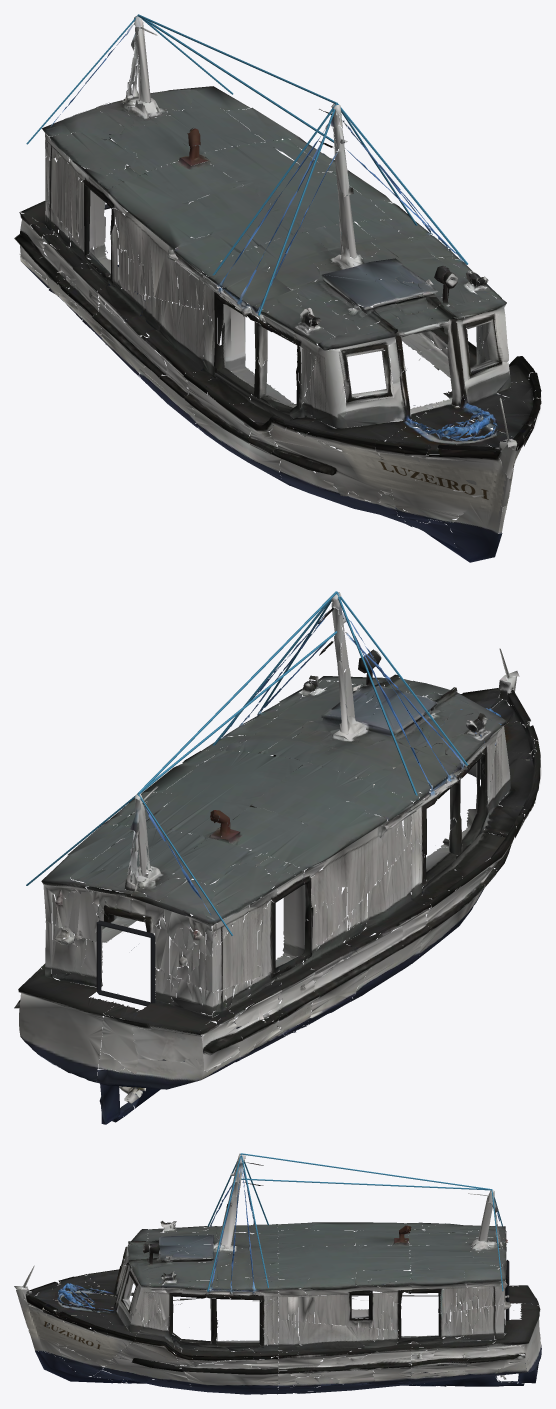
Rendered from luzeiro_c.glb.
The picture shows the model from 3 angles, top to bottom: view 1: azimuth 30°, elevation 25°; view 2: azimuth 150°, elevation 25°; view 3: azimuth 270°, elevation 25°; orthographic projection. The views are drawn at different scales.
Parts seen in each view (by area): view 1: Luzeiro_casco, Nome_boreste, Cordas; view 2: Luzeiro_casco, Cordas, Porta_popa; view 3: Luzeiro_casco, Nome_bombordo, Cordas.
Boxes of the visible parts, x1,y1,x2,y2 form: Luzeiro_casco: [14, 16, 541, 562]; Nome_boreste: [334, 442, 506, 516]; Cordas: [26, 14, 468, 315]; Luzeiro_casco: [14, 592, 540, 1124]; Cordas: [26, 591, 467, 935]; Porta_popa: [96, 920, 155, 1006]; Luzeiro_casco: [14, 1153, 541, 1394]; Nome_bombordo: [23, 1307, 117, 1359]; Cordas: [207, 1153, 503, 1291].
Bounding box in the file's own units: 5.25 × 7.32 × 15.04.
4 materials, 2 textured.
